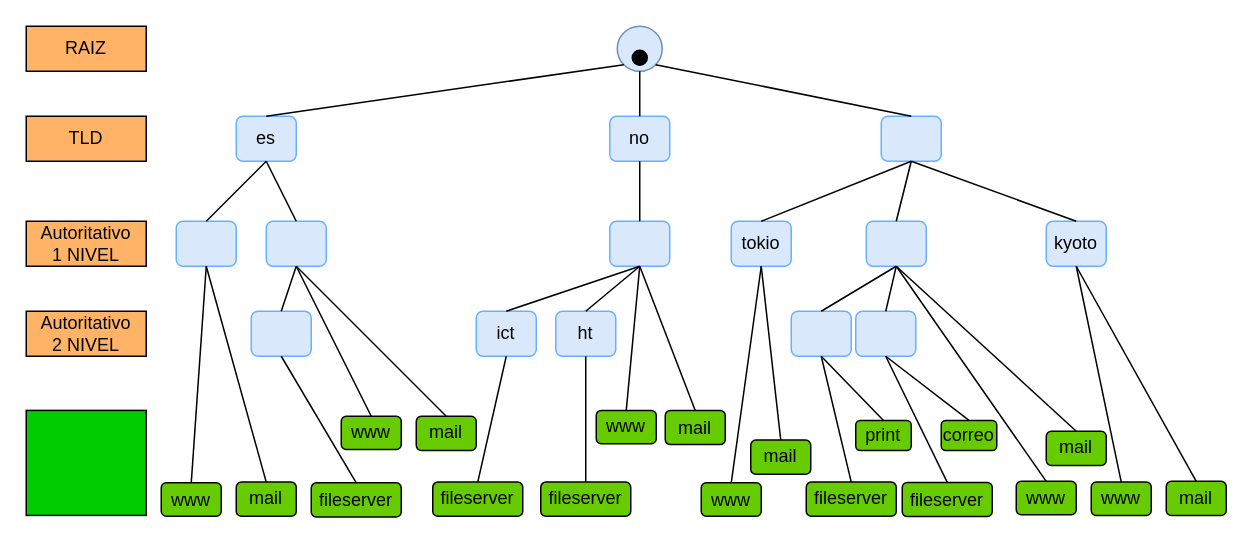
Some shapes in this 1253 by 545 pixel diagram are drawn without their labels. The box of each missing label's shape, as (x1, y1, x2, y2) in pixels:
chiba: (865, 220, 926, 266)
cnm: (265, 220, 326, 266)
Hojas: (25, 409, 146, 515)
imse: (250, 310, 311, 356)
jp: (880, 115, 941, 161)
norut: (608, 220, 670, 266)
rob: (790, 310, 851, 356)
soc: (854, 310, 916, 356)
us: (175, 220, 236, 266)
